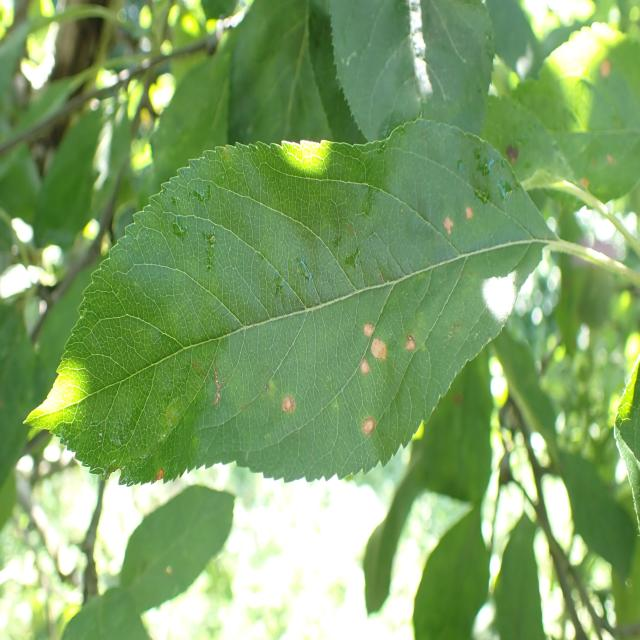Black Rot: (356, 333, 392, 377), (400, 326, 430, 369), (454, 193, 486, 233), (350, 410, 381, 448), (274, 384, 296, 434), (357, 312, 375, 342), (598, 53, 612, 89), (441, 210, 457, 241)
